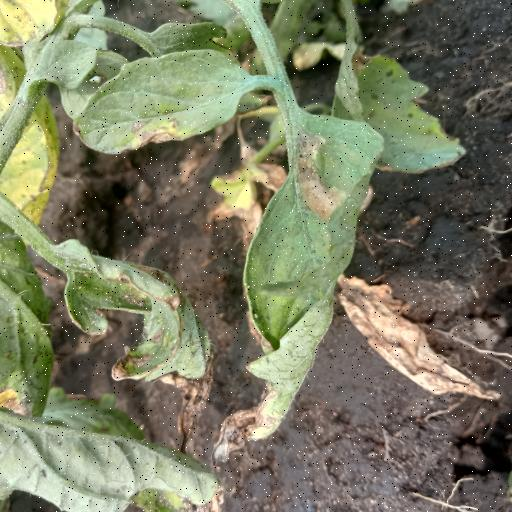Tomato_Brown_Spots: (212, 100, 385, 464), (56, 228, 214, 390), (76, 45, 260, 153), (334, 40, 467, 178)
